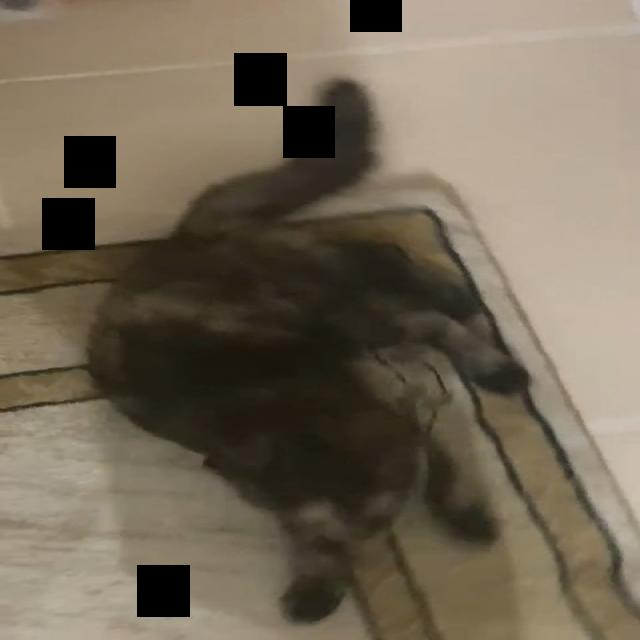authorized: (82, 75, 638, 638)
